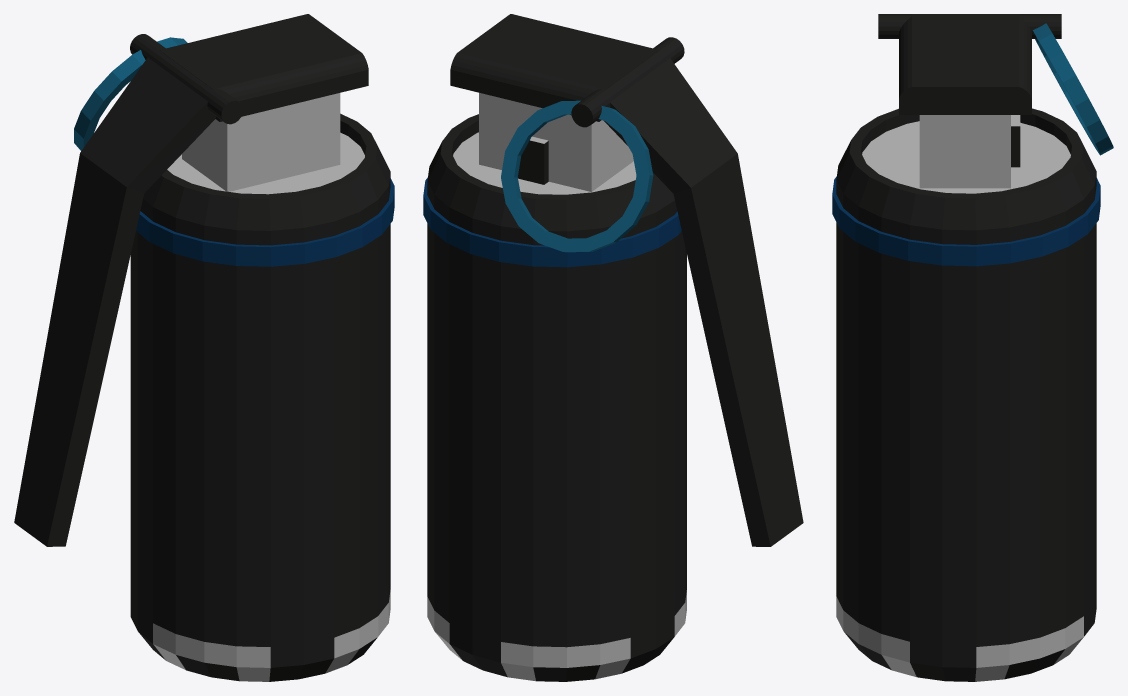
Rendered from o2_Weapons_Flashbang.fbx.
3 renders of one model, left to right at view 1: azimuth 30°, elevation 25°; view 2: azimuth 150°, elevation 25°; view 3: azimuth 270°, elevation 25°, orthographic.
Parts seen in each view (by area): view 1: o2_Weapons_Flashbang, Clip, PinRing, Pin; view 2: o2_Weapons_Flashbang, Clip, PinRing, Pin; view 3: o2_Weapons_Flashbang, PinRing, Pin.
Part boxes in pixels (x1,y1,x2,y2): o2_Weapons_Flashbang: (130,14,394,681); Clip: (14,57,215,546); PinRing: (74,37,187,150); Pin: (130,34,243,124); o2_Weapons_Flashbang: (423,14,686,681); Clip: (604,58,803,546); PinRing: (501,100,653,252); Pin: (571,37,684,127); o2_Weapons_Flashbang: (832,14,1100,681); PinRing: (1033,23,1113,155); Pin: (878,14,1061,38).
Size of the model in its own units: 15.34 by 24.66 by 10.78.
Materials: 1 (1 with a texture image).
